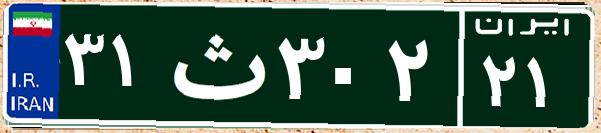0: (330, 28, 385, 110)
1: (110, 28, 158, 105), (525, 38, 570, 115)
2: (385, 28, 445, 110), (475, 38, 525, 113)
3: (273, 28, 330, 110), (57, 26, 110, 107)
ث: (158, 15, 273, 115)
